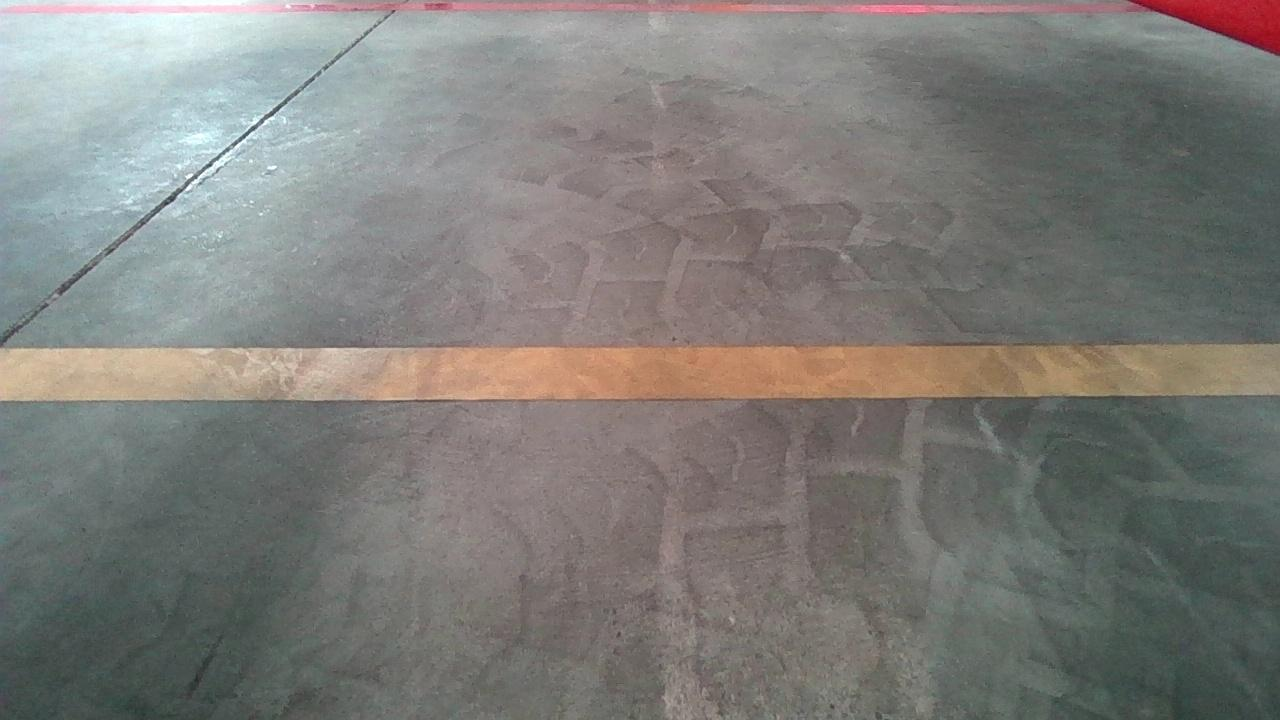yellow_line: (14, 335, 1280, 400)
